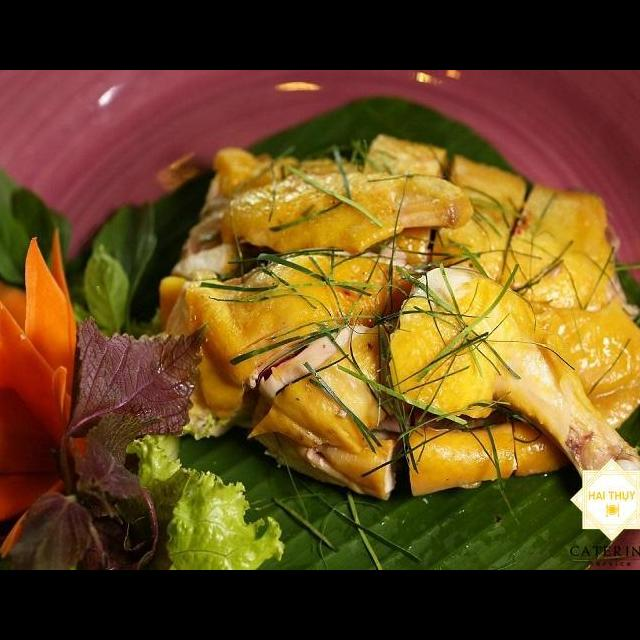thit ga: (381, 263, 640, 491), (145, 242, 417, 439), (399, 311, 640, 501), (173, 142, 478, 292), (497, 178, 640, 323), (353, 130, 454, 287), (428, 151, 533, 294)
